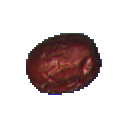gd: (11, 11, 111, 114)
